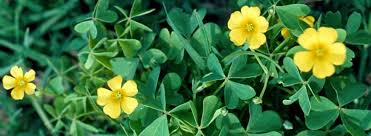clover: (305, 75, 370, 136), (202, 51, 262, 110), (130, 82, 194, 136)
yellow wood sorrel: (293, 27, 347, 80), (95, 74, 140, 120), (227, 4, 269, 52), (3, 66, 37, 100)
